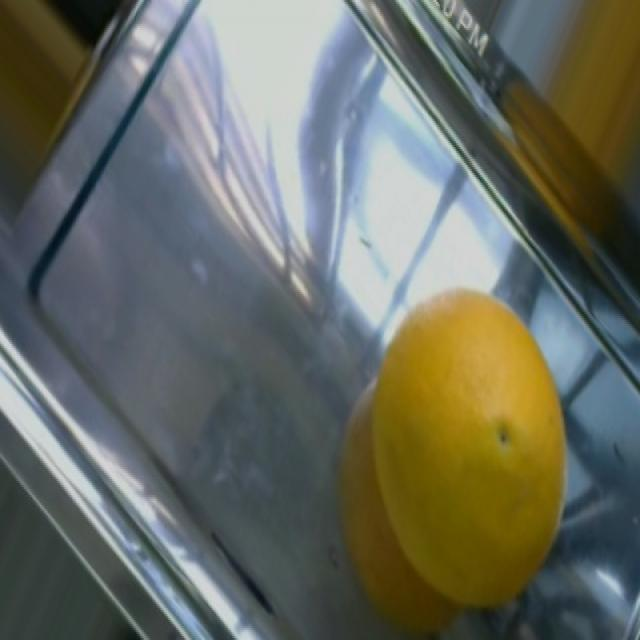Fruit: (324, 272, 579, 628)
